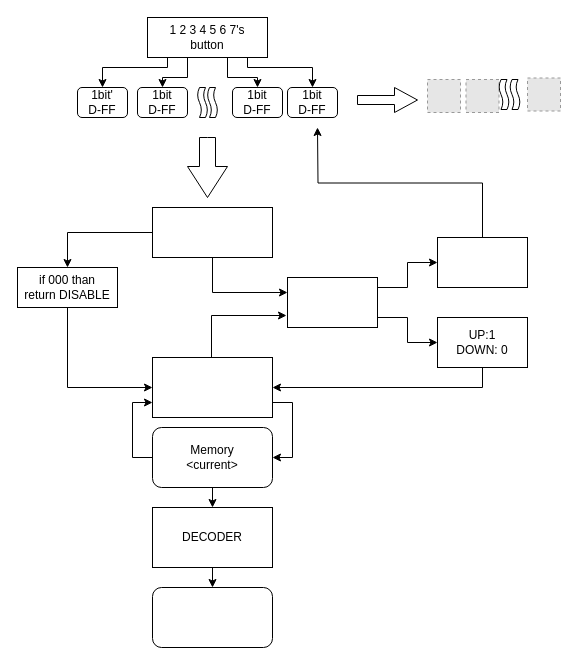
Some shapes in this 578 by 665 pixel diagram are drawn without their labels. Grey dashed boxes stand in for pictures. The centre of each missing label's shape, as x and y in pixels:
"3bit Comparator" goes at pixel 332 302.
"7-Segment" goes at pixel 212 617.
"ENCODER" goes at pixel 212 232.
"if (=) than CLEAR" goes at pixel 482 262.
"Sequential Logic Circuits" goes at pixel 212 387.
